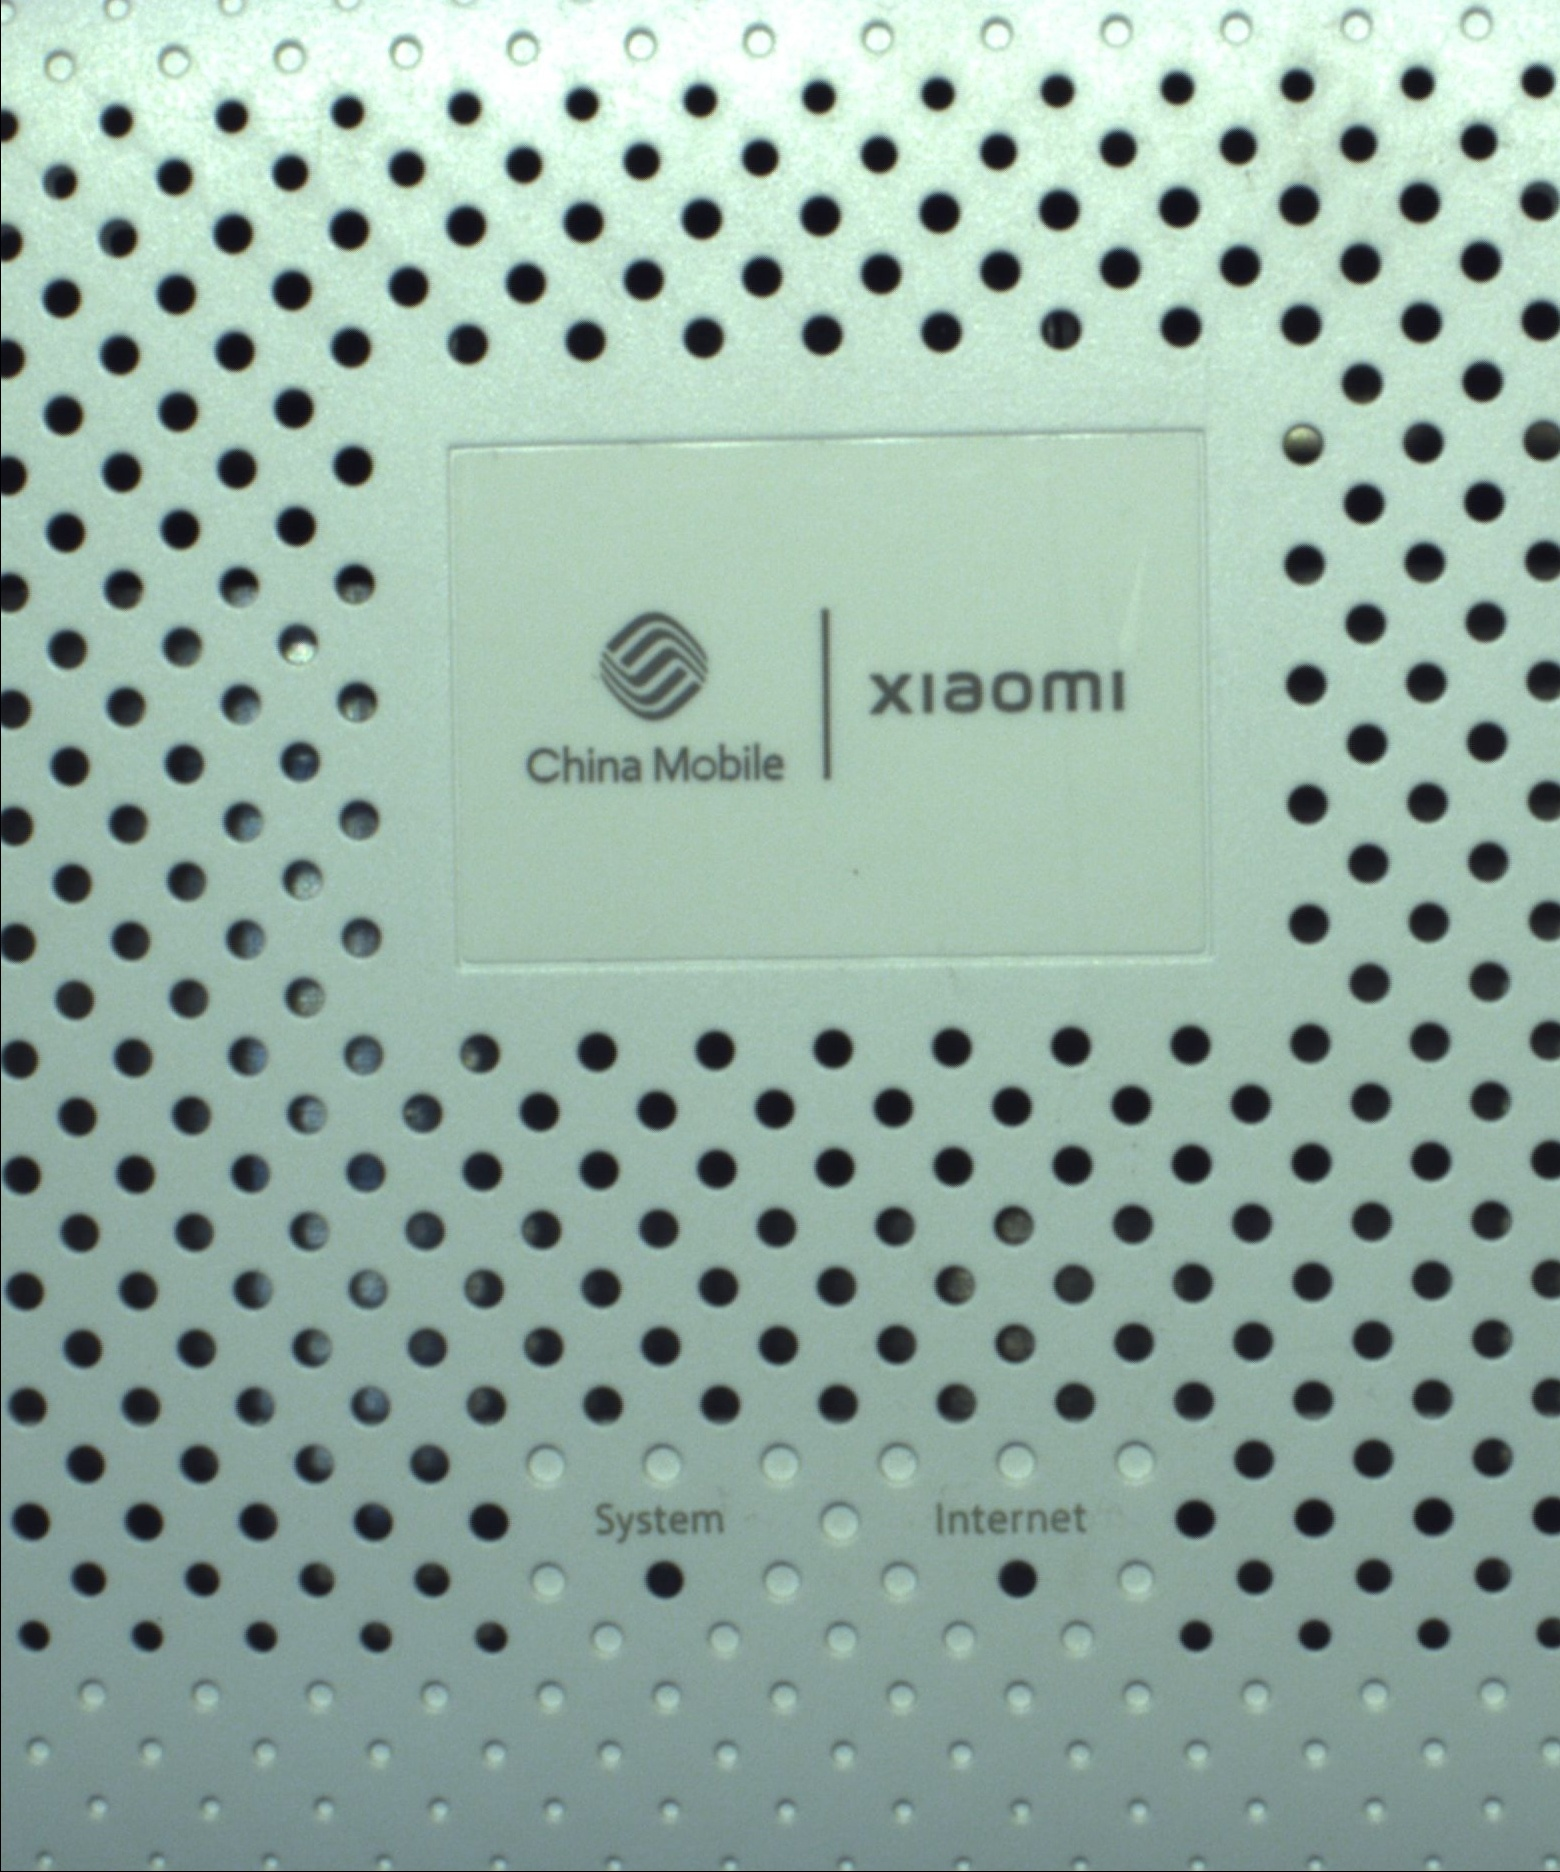MAD_ChinaMobile: (504, 586, 1128, 819)
